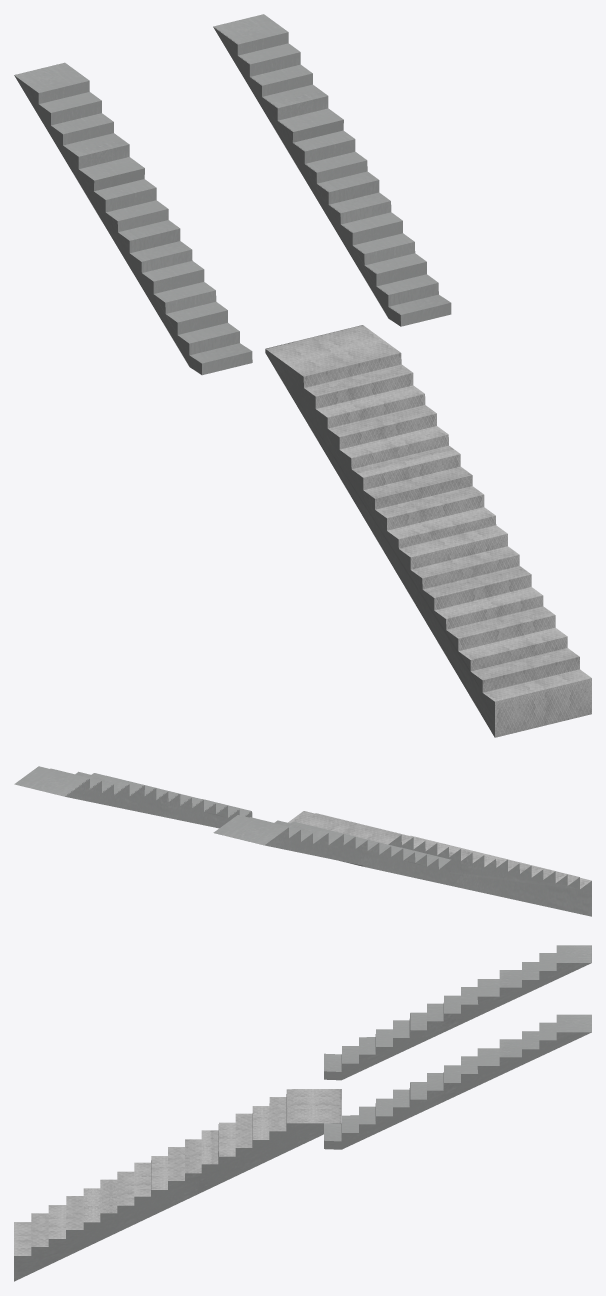
The model's file is Stair_01_Ufa.FBX.
The picture shows the model from 3 angles, top to bottom: view 1: azimuth 30°, elevation 25°; view 2: azimuth 150°, elevation 25°; view 3: azimuth 270°, elevation 25°; orthographic projection. The views are drawn at different scales.
Visible parts, largest first — view 1: Stair_01_Ufa; view 2: Stair_01_Ufa; view 3: Stair_01_Ufa.
Part boxes in pixels (x1=…): Stair_01_Ufa: x1=14, y1=14, x2=591, y2=737; Stair_01_Ufa: x1=14, y1=766, x2=591, y2=916; Stair_01_Ufa: x1=14, y1=945, x2=591, y2=1281.
Size of the model in its own units: 5.38 by 7.94 by 15.07.
1 material, 1 textured.
